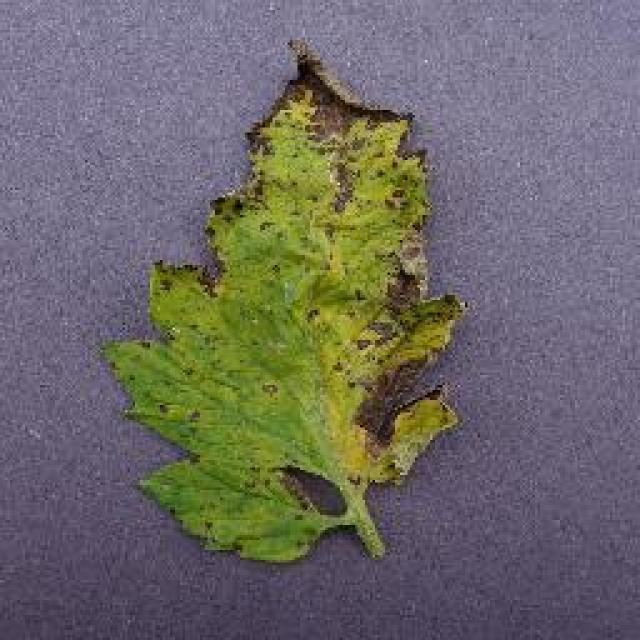Tomato Septoria spot leaf: (104, 37, 462, 560)
